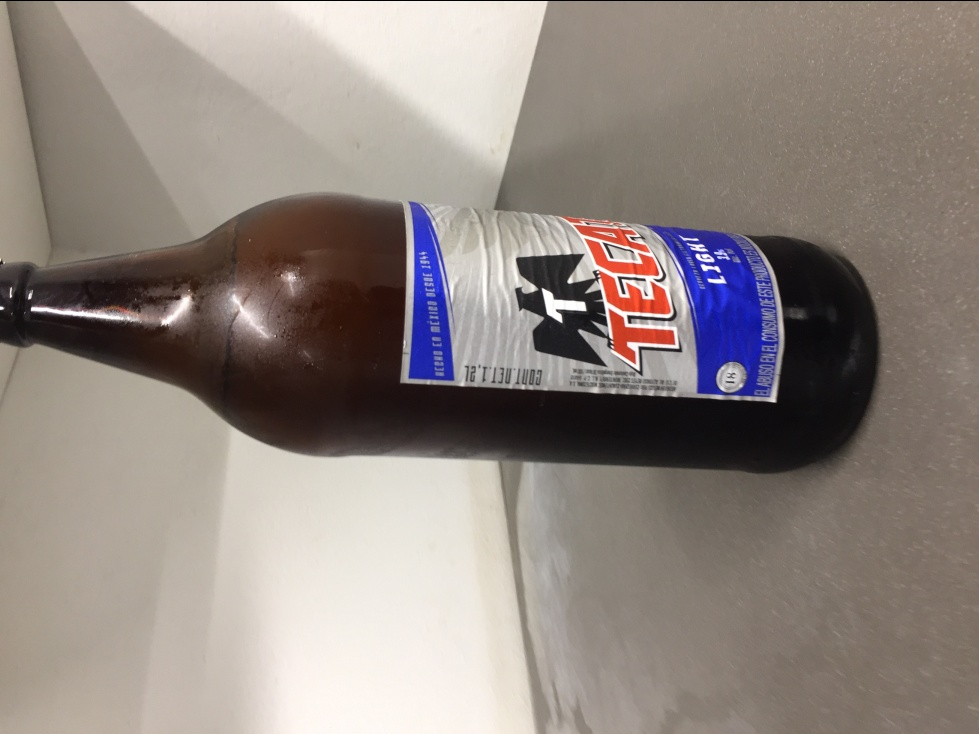tecateC: (8, 188, 880, 481)
